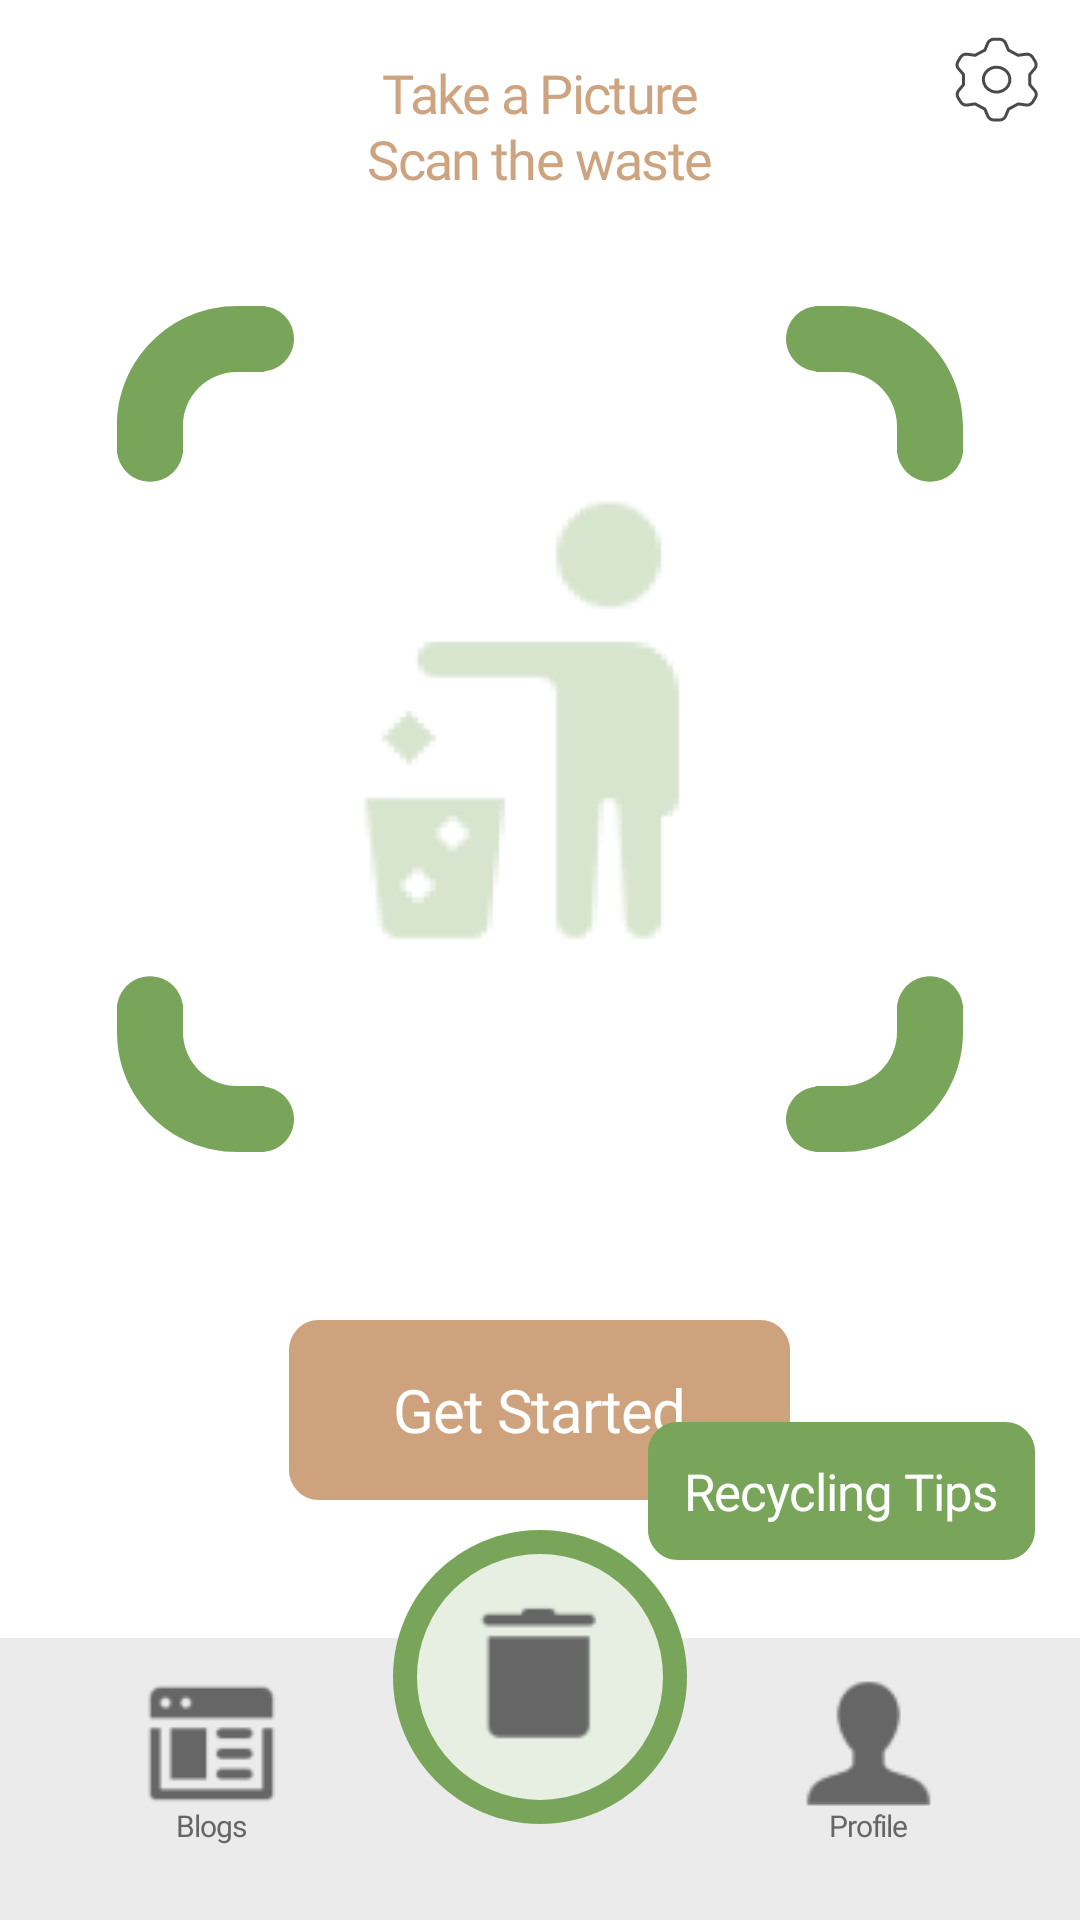

Screen size 1080w x 1920h. Icon name, then its center in pixels as (x=x, y=y):
customer: (x=868, y=1743)
trashcan: (x=538, y=1673)
web: (x=211, y=1743)
